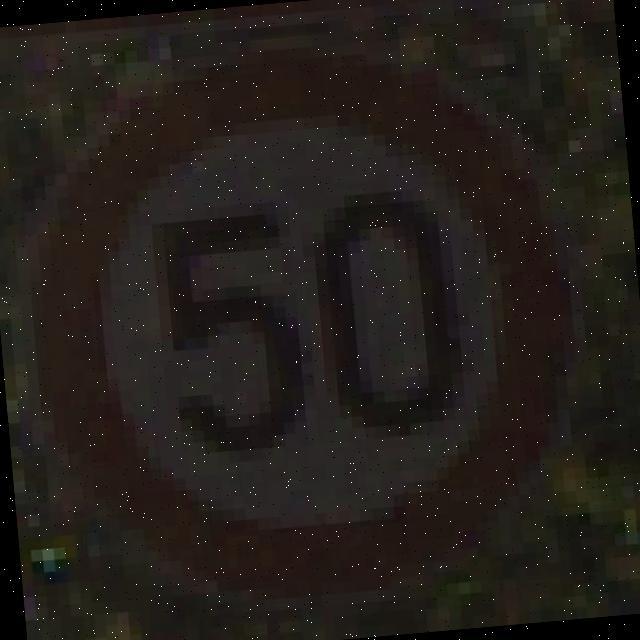Ograniczenie predkosci do 50: (16, 30, 590, 617)
